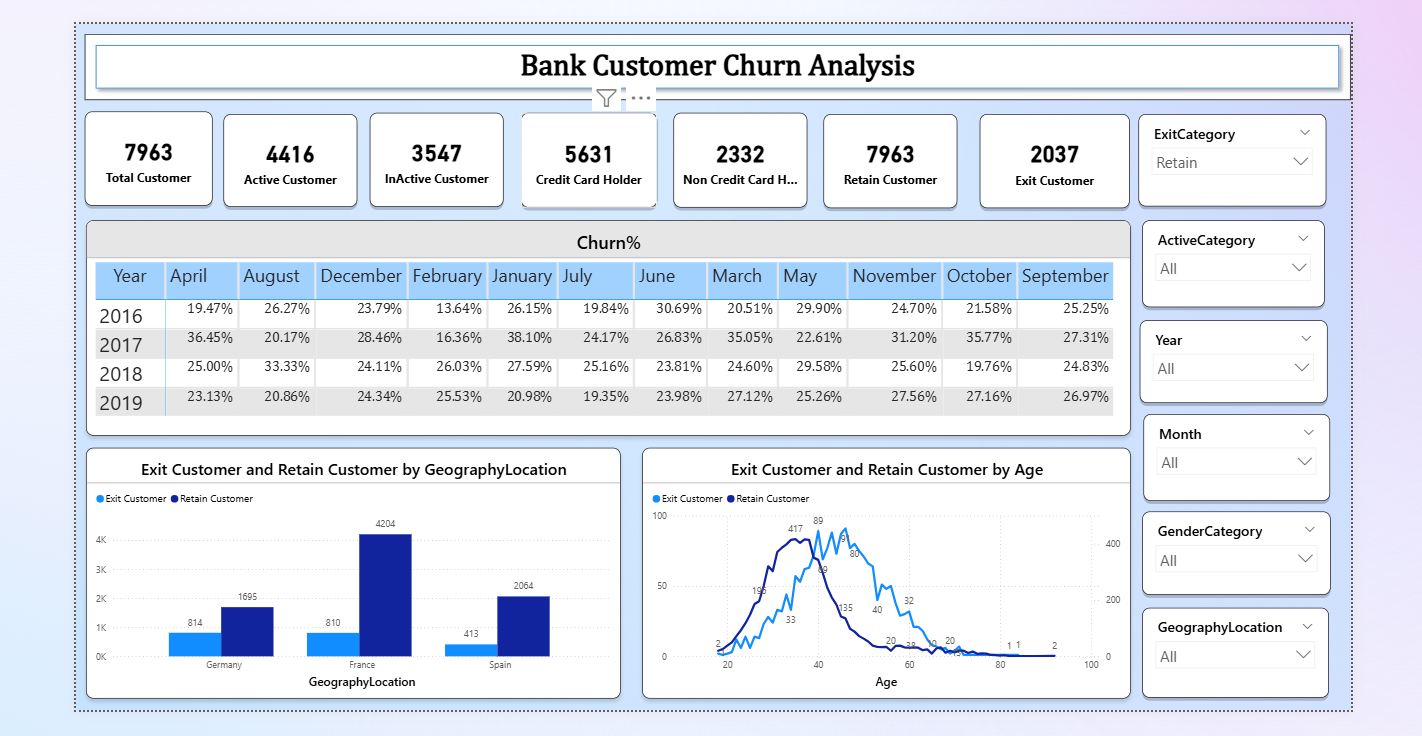

The page's visual inventory and layout, read from the dashboard file:
{"tool":"powerbi","page":{"name":"Dashboard 2","canvas":[1700,915],"ordinal":2},"visuals":[{"type":"card","fields":{"Values":["Bank_Customers_Churn.Total Customer"]},"box":[12.3,117.3,170.4,125.4],"z":0},{"type":"shape","box":[12.4,13.9,1688,88],"z":1000},{"type":"card","fields":{"Values":["Bank_Customers_Churn.Active Customer"]},"box":[196.3,120,178.6,124.1],"z":2000},{"type":"card","fields":{"Values":["Bank_Customers_Churn.InActive Customer"]},"box":[391.3,118.6,178.6,125.4],"z":3000},{"type":"card","fields":{"Values":["Bank_Customers_Churn.Credit Card Holder"]},"box":[593.3,118.7,181.3,126.7],"z":4000},{"type":"card","fields":{"Values":["Bank_Customers_Churn.Non Credit Card Holder"]},"box":[796,118.7,178.7,126.7],"z":5000},{"type":"card","fields":{"Values":["Bank_Customers_Churn.Exit Customer"]},"box":[1205.7,120,200,125.7],"z":6000},{"type":"card","fields":{"Values":["Bank_Customers_Churn.Retain Customer"]},"box":[996,120,178.7,125.3],"z":7000},{"type":"slicer","fields":{"Values":["Gender.GenderCategory"]},"box":[1421.4,650,251.4,111.4],"z":8000},{"type":"slicer","fields":{"Values":["Date.Year"]},"box":[1418.6,395.7,250,110],"z":9000},{"type":"slicer","fields":{"Values":["Geography.GeographyLocation"]},"box":[1421.4,778.6,248.6,120],"z":10000},{"type":"slicer","fields":{"Values":["Date.Month"]},"box":[1422.9,520,248.6,115.7],"z":11000},{"type":"slicer","fields":{"Values":["Exit Customer.ExitCategory"]},"box":[1417.1,120,250,122.9],"z":12000},{"type":"pivotTable","title":"Churn%","fields":{"Columns":["Date.Month"],"Rows":["Date.Year"],"Values":["Bank_Customers_Churn.Churn%"]},"box":[12.9,261.4,1392.9,287.1],"z":13000},{"type":"clusteredColumnChart","fields":{"Category":["Geography.GeographyLocation"],"Y":["Bank_Customers_Churn.Exit Customer","Bank_Customers_Churn.Retain Customer"]},"box":[12.9,564.3,712.9,334.3],"z":14000},{"type":"lineChart","fields":{"Category":["Bank_Customers_Churn.Age"],"Y":["Bank_Customers_Churn.Exit Customer"],"Y2":["Bank_Customers_Churn.Retain Customer"]},"box":[754.3,564.3,651.4,334.3],"z":15000},{"type":"slicer","fields":{"Values":["ActiveCustomer.ActiveCategory"]},"box":[1421.4,261.4,242.9,115.7],"z":16000}]}

Visuals, with their boxes on the page's 1700x915 design canvas (x1, y1, x2, y2). These are canvas units, not pixel positions in the 1422x736 screenshot, which may show the page scaled, cropped or inside an application window:
card - Bank_Customers_Churn.Total Customer: BBox(12, 117, 183, 243)
shape: BBox(12, 14, 1700, 102)
card - Bank_Customers_Churn.Active Customer: BBox(196, 120, 375, 244)
card - Bank_Customers_Churn.InActive Customer: BBox(391, 119, 570, 244)
card - Bank_Customers_Churn.Credit Card Holder: BBox(593, 119, 775, 245)
card - Bank_Customers_Churn.Non Credit Card Holder: BBox(796, 119, 975, 245)
card - Bank_Customers_Churn.Exit Customer: BBox(1206, 120, 1406, 246)
card - Bank_Customers_Churn.Retain Customer: BBox(996, 120, 1175, 245)
slicer - Gender.GenderCategory: BBox(1421, 650, 1673, 761)
slicer - Date.Year: BBox(1419, 396, 1669, 506)
slicer - Geography.GeographyLocation: BBox(1421, 779, 1670, 899)
slicer - Date.Month: BBox(1423, 520, 1672, 636)
slicer - Exit Customer.ExitCategory: BBox(1417, 120, 1667, 243)
"Churn%" pivotTable: BBox(13, 261, 1406, 548)
clusteredColumnChart - Geography.GeographyLocation x Bank_Customers_Churn.Exit Customer: BBox(13, 564, 726, 899)
lineChart - Bank_Customers_Churn.Age x Bank_Customers_Churn.Exit Customer: BBox(754, 564, 1406, 899)
slicer - ActiveCustomer.ActiveCategory: BBox(1421, 261, 1664, 377)
